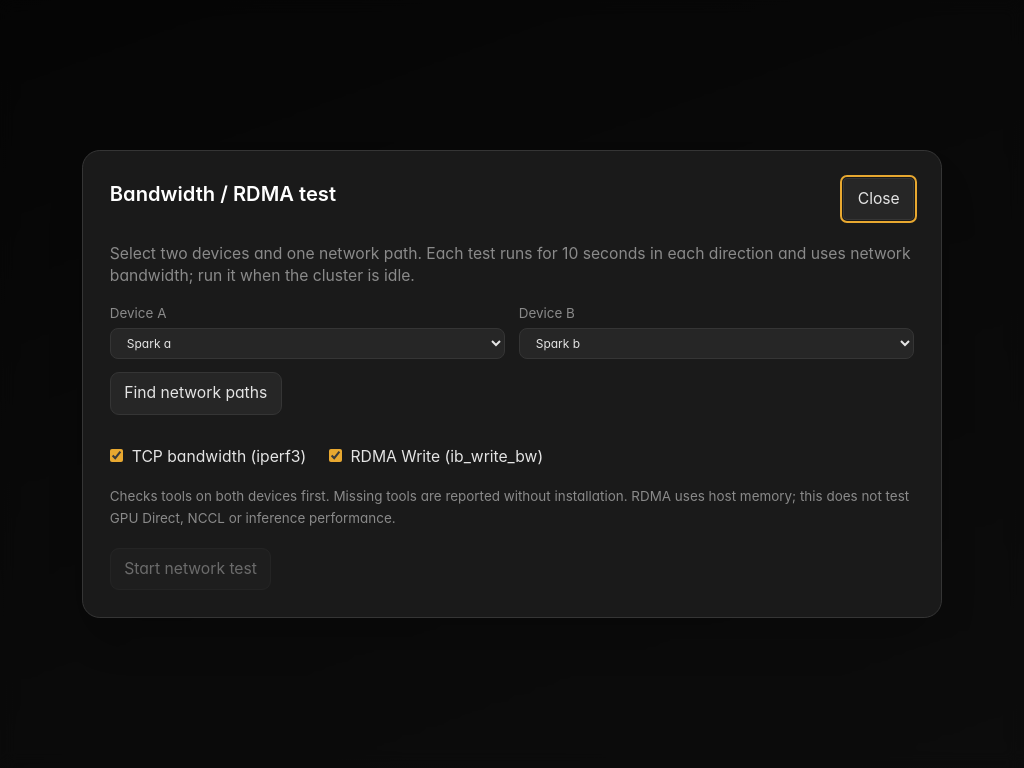
Test: changing the device pair invalidates previously discovered paths
The image size is (1024, 768).
Step 1. Click the button "Find network paths" → {"x": 196, "y": 393}, box [110, 372, 282, 414]
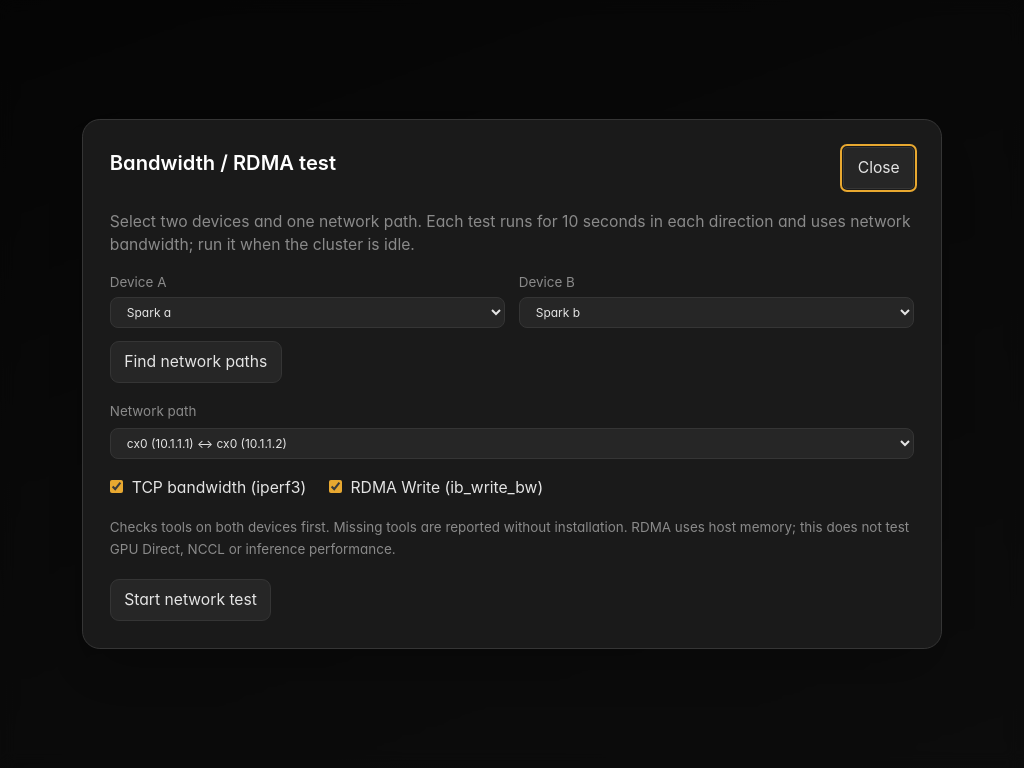
expect the button "Start network test" is enabled: met, box [110, 579, 271, 621]
Step 2. Select "Spark c" in the dropdown labelled "Device B" → {"x": 716, "y": 312}, box [519, 297, 914, 328]
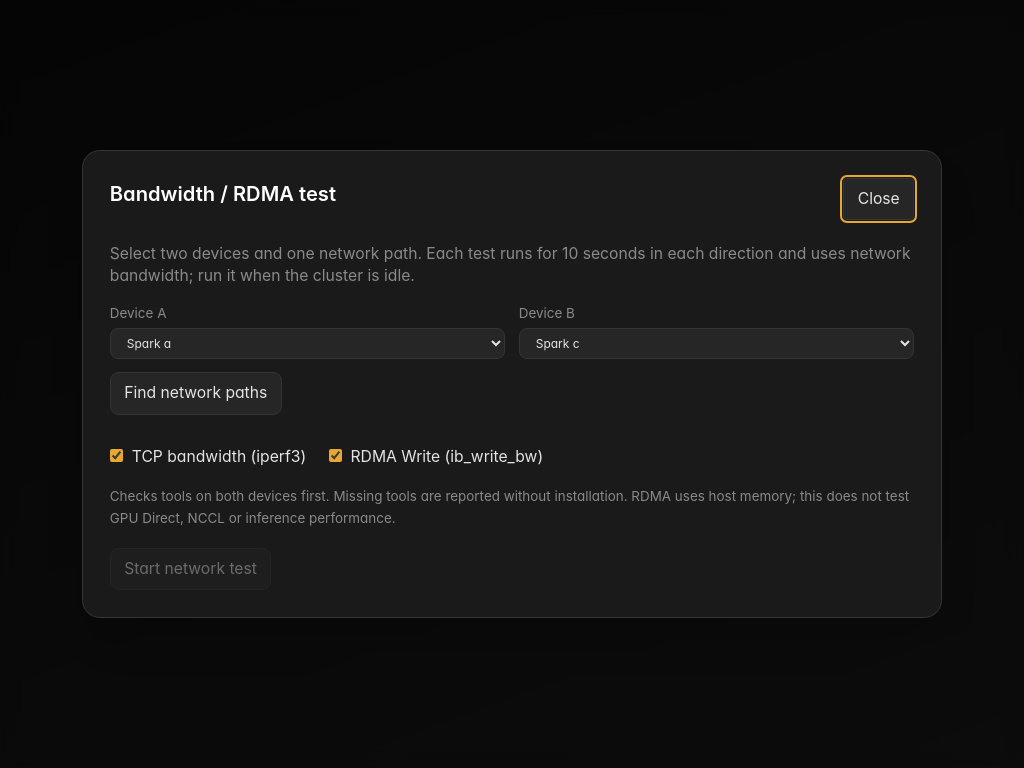
expect the button "Start network test" is disabled: met, box [110, 548, 271, 590]
